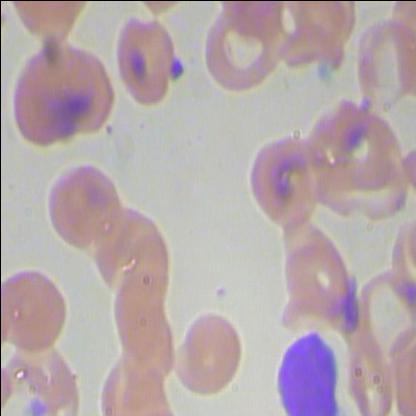Platelets: (166, 56, 190, 83)
RBC: (306, 100, 406, 212), (3, 46, 86, 150), (108, 14, 188, 104), (169, 308, 248, 398), (203, 6, 282, 96), (44, 160, 122, 250), (82, 199, 160, 289), (241, 134, 319, 224), (278, 236, 356, 326), (1, 260, 75, 352), (46, 42, 116, 138), (346, 18, 416, 110), (346, 263, 415, 356), (340, 330, 398, 415), (96, 351, 164, 415)
WBC: (261, 326, 342, 414)
